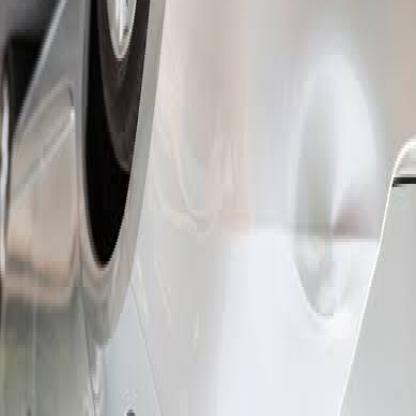dent: (288, 58, 378, 336)
